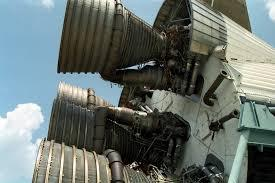body: (119, 55, 275, 183)
thruster: (57, 0, 167, 76), (32, 136, 154, 183), (46, 81, 121, 153)
